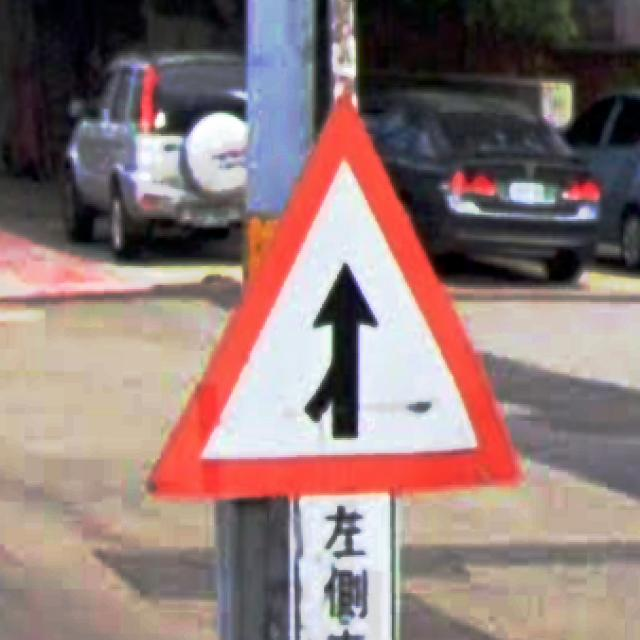leftmerge: (146, 89, 521, 504)
